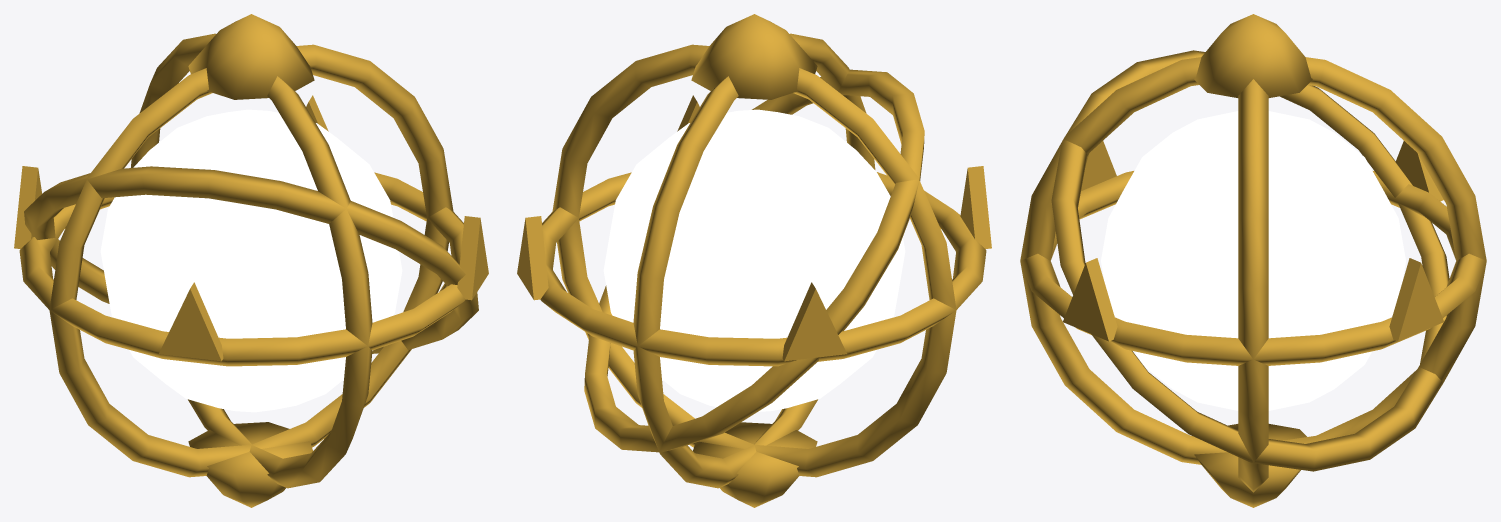
File: orb_dewa.glb
3 renders of one model, left to right at view 1: azimuth 30°, elevation 25°; view 2: azimuth 150°, elevation 25°; view 3: azimuth 270°, elevation 25°, orthographic.
Visible parts, largest first — view 1: orb_dewa_mesh; view 2: orb_dewa_mesh; view 3: orb_dewa_mesh.
Part boxes in pixels (box(x1,y1,x2,y2)): orb_dewa_mesh: box(14, 14, 488, 507); orb_dewa_mesh: box(517, 14, 991, 507); orb_dewa_mesh: box(1020, 14, 1486, 507).
Bounding box in the file's own units: 0.428 × 0.5 × 0.428.
